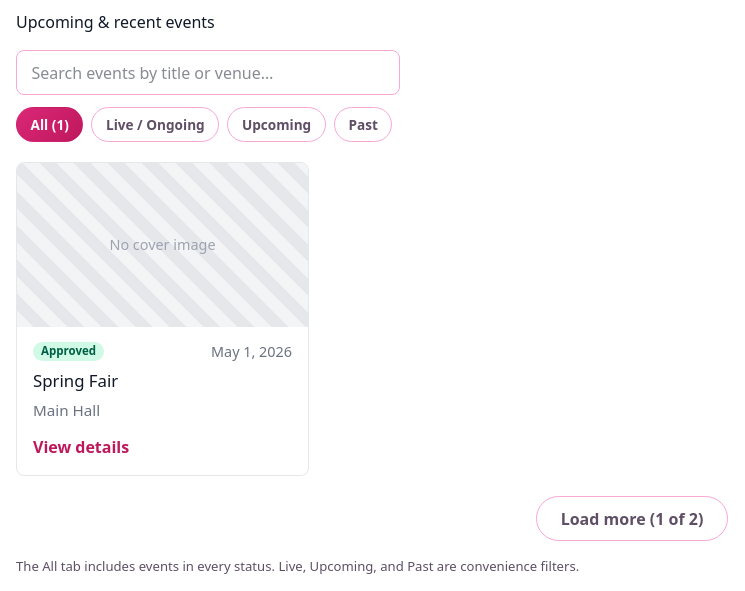
Test case: PublicEventListView › appends the next page from the server
Click the button with test id "load-more-public-events". click: (632, 519)
box: x1=536 y1=496 x2=728 y2=541
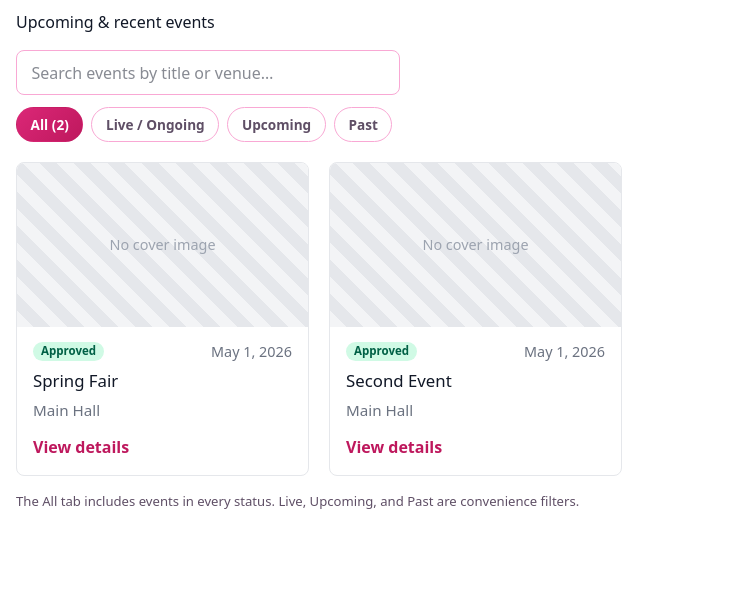
Check: the text "Spring Fair" is shown, box x1=33 y1=369 x2=118 y2=392
Check: the text "Second Event" is shown, box x1=346 y1=369 x2=452 y2=392
